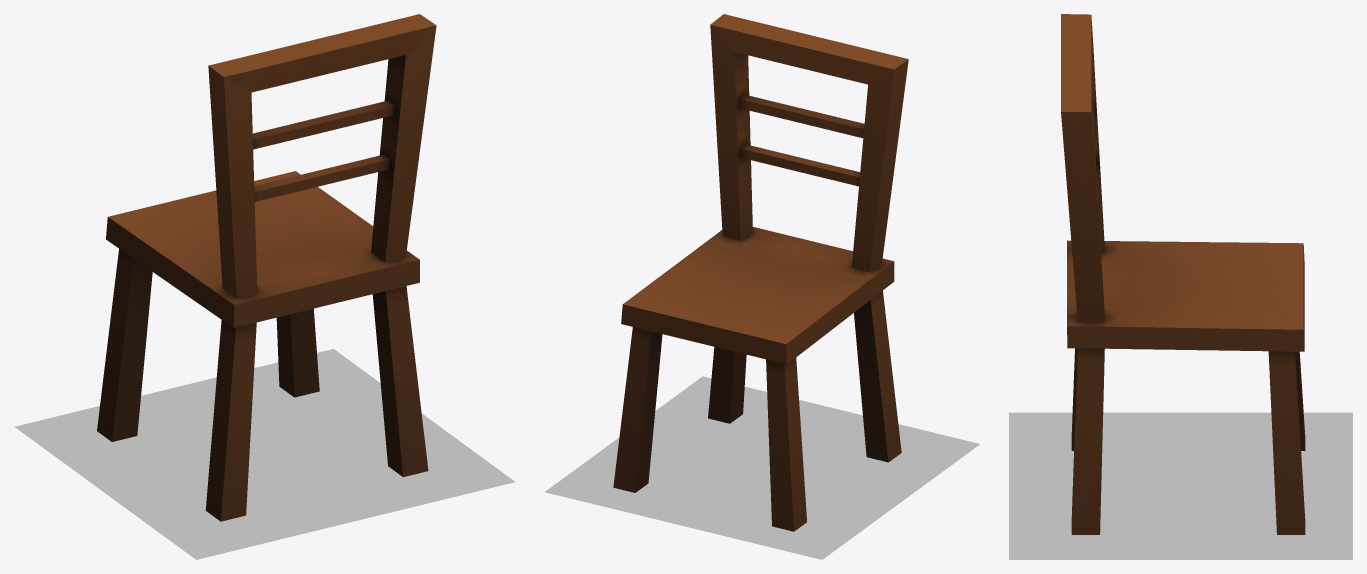
The model's file is 1x1_chair.FBX.
The picture shows the model from 3 angles, left to right: view 1: azimuth 30°, elevation 25°; view 2: azimuth 150°, elevation 25°; view 3: azimuth 270°, elevation 25°; orthographic projection. The views are drawn at different scales.
Visible parts, largest first — view 1: 1x1_chair, 1x1_chair_soft_shadow; view 2: 1x1_chair, 1x1_chair_soft_shadow; view 3: 1x1_chair, 1x1_chair_soft_shadow.
Part boxes in pixels (left/top/right/bottom): 1x1_chair: left=97, top=14, right=436, bottom=521; 1x1_chair_soft_shadow: left=14, top=349, right=514, bottom=559; 1x1_chair: left=613, top=14, right=908, bottom=531; 1x1_chair_soft_shadow: left=544, top=376, right=979, bottom=559; 1x1_chair: left=1061, top=14, right=1305, bottom=534; 1x1_chair_soft_shadow: left=1009, top=412, right=1352, bottom=559.
Bounding box in the file's own units: 718 × 977 × 709.
